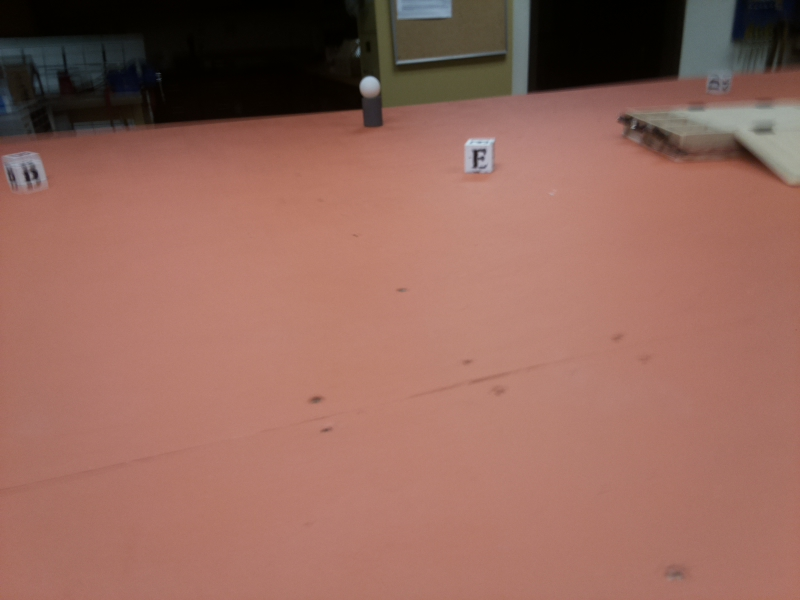blockB: (3, 155, 54, 192)
blockD: (708, 73, 730, 93)
blockE: (466, 138, 497, 176)
obstacle: (358, 74, 383, 129)
side: (618, 113, 683, 162)
slope: (734, 126, 800, 187), (674, 97, 789, 110)
